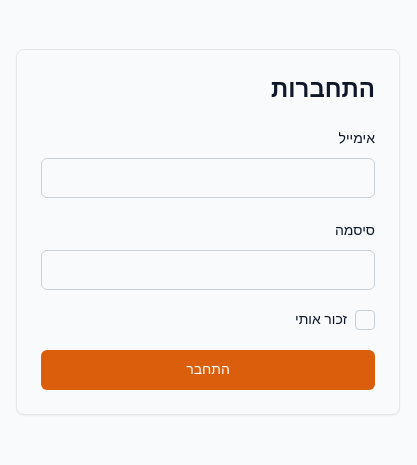
Test: S01 Login › shows a rate-limit message on 429
This screenshot has width=417, height=465.
Type "admin@dev.local" into the field labelled "אימייל" at (208, 178), box [41,158,375,198]
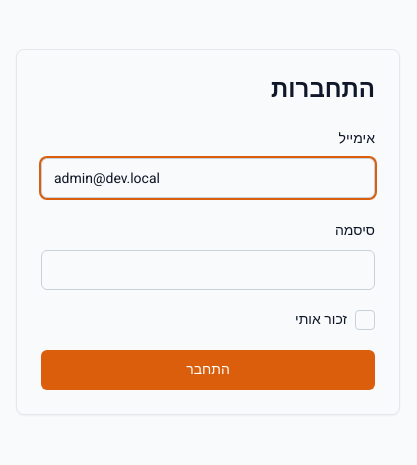
Type "Passw0rd!" into the password field labelled "סיסמה" at (208, 270), box [41,250,375,290]
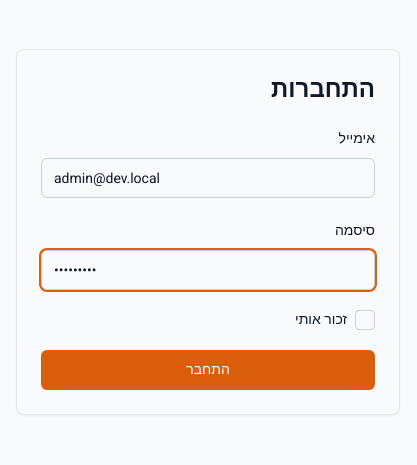
Click the button "התחבר" at (208, 370), box [41,350,375,390]
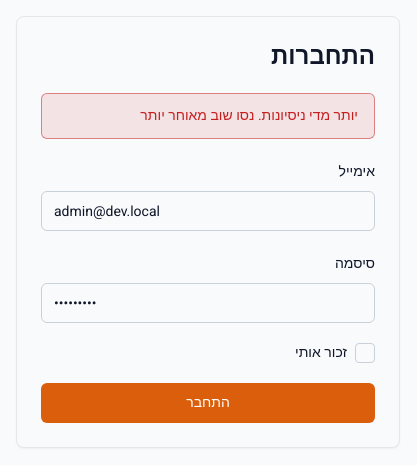
Expected: the message shows "יותר מדי ניסיונות", [140,105,358,126]
